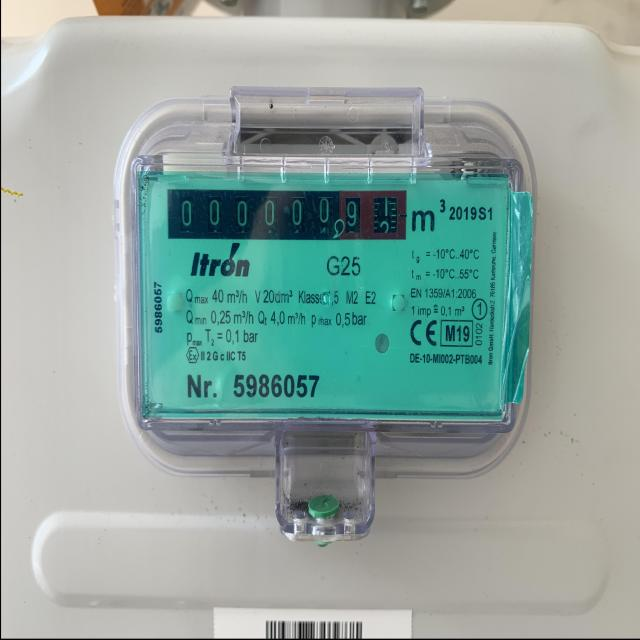gaz_meter: (136, 165, 504, 418)
indication: (166, 188, 406, 242)
